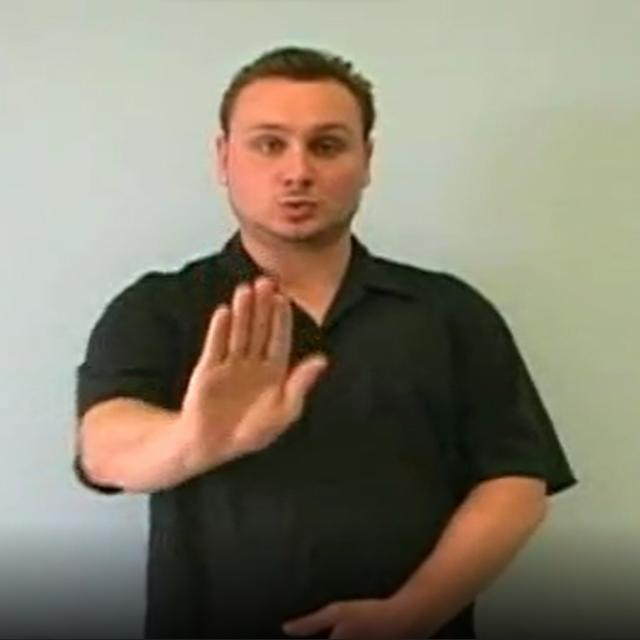your: (181, 276, 327, 452)
